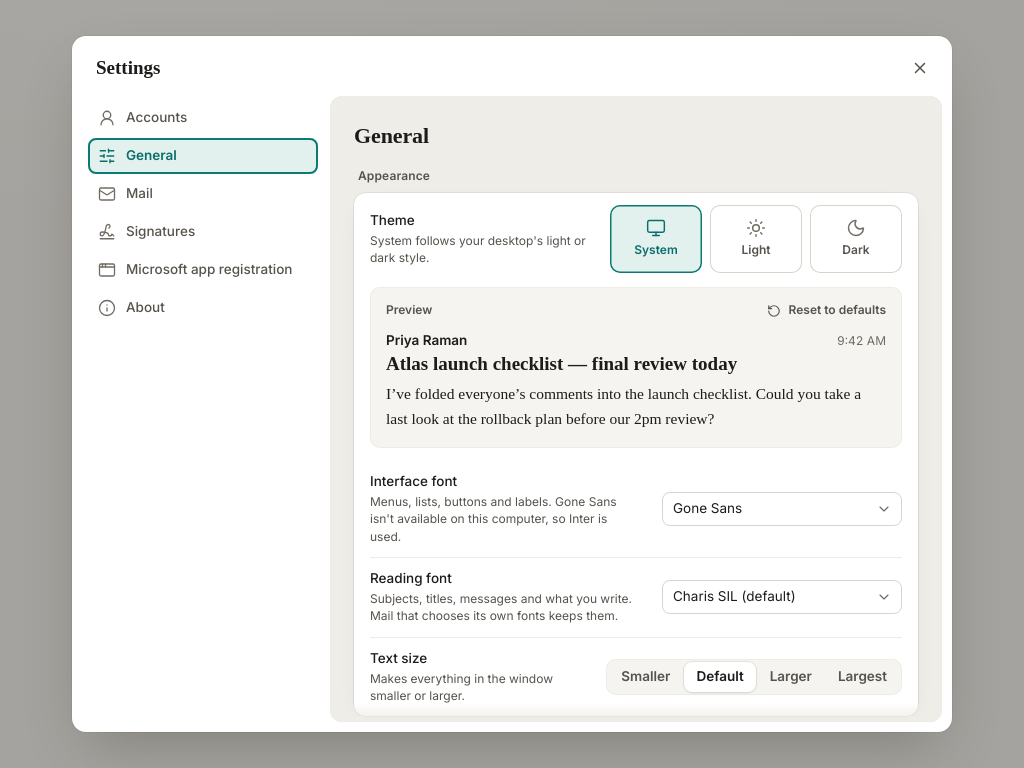
Test: Appearance › says when a saved font isn't available, and still shows it as chosen
Click the dropdown labelled "Interface font": (782, 508) [662,492,902,526]
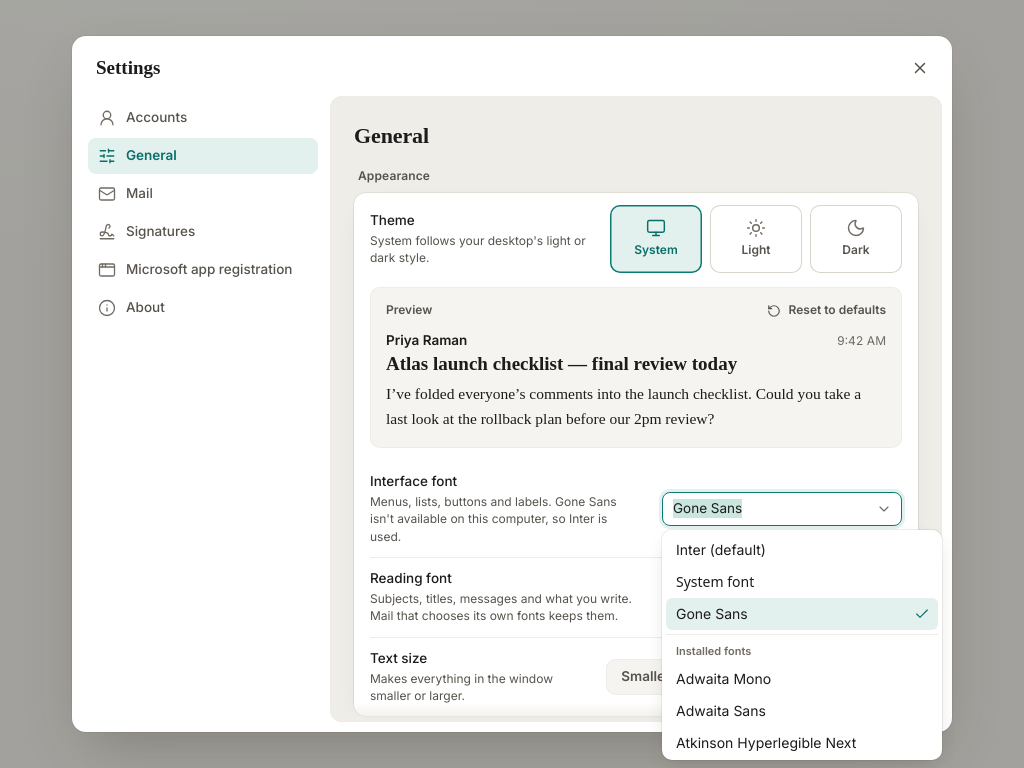
Expected: the option "Adwaita Mono" is shown, [676,670,771,687]
